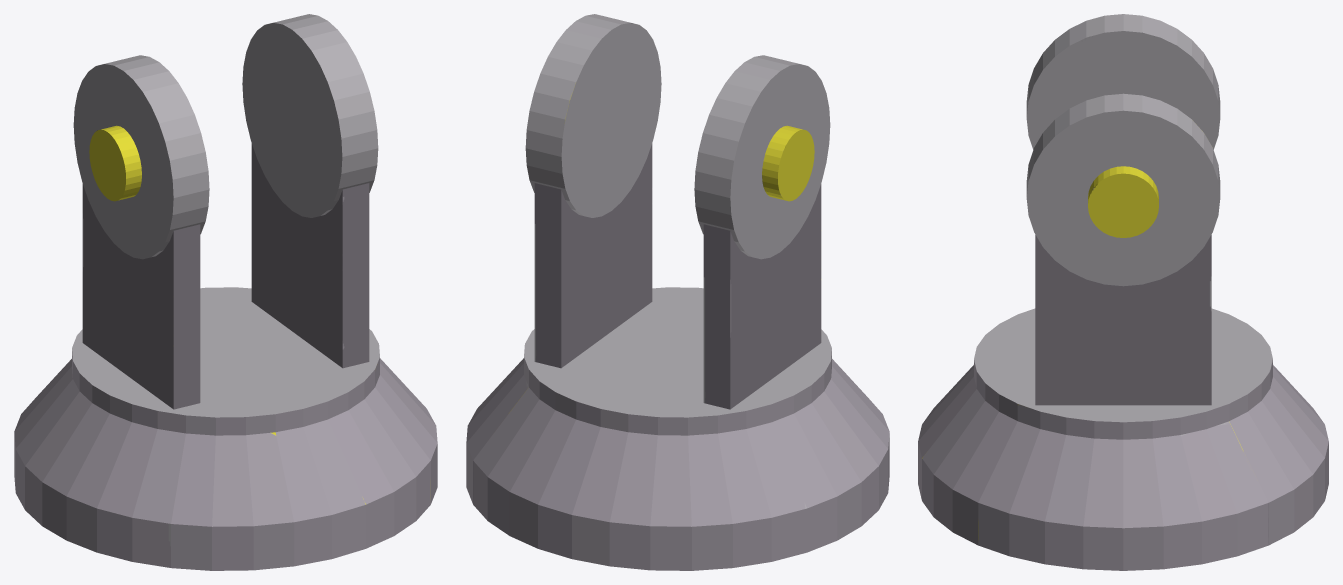
File: TurretStand.obj
The picture shows the model from 3 angles, left to right: view 1: azimuth 30°, elevation 25°; view 2: azimuth 150°, elevation 25°; view 3: azimuth 270°, elevation 25°; orthographic projection. The views are drawn at different scales.
Parts seen in each view (by area): view 1: TurretStand; view 2: TurretStand; view 3: TurretStand.
Boxes of the visible parts, <box> form: TurretStand: <box>14,14,437,570</box>; TurretStand: <box>466,14,889,570</box>; TurretStand: <box>918,14,1328,570</box>.
Size of the model in its own units: 2.81 by 3.19 by 2.81.
1 material, 1 textured.
